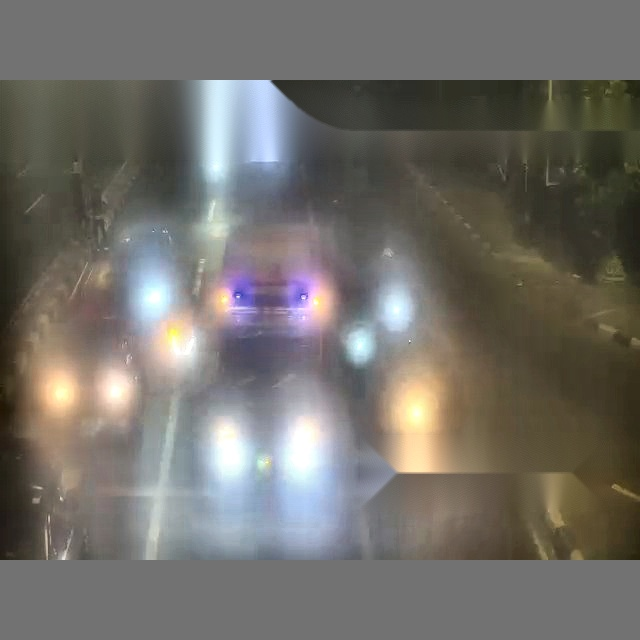Motor: (96, 360, 135, 437)
